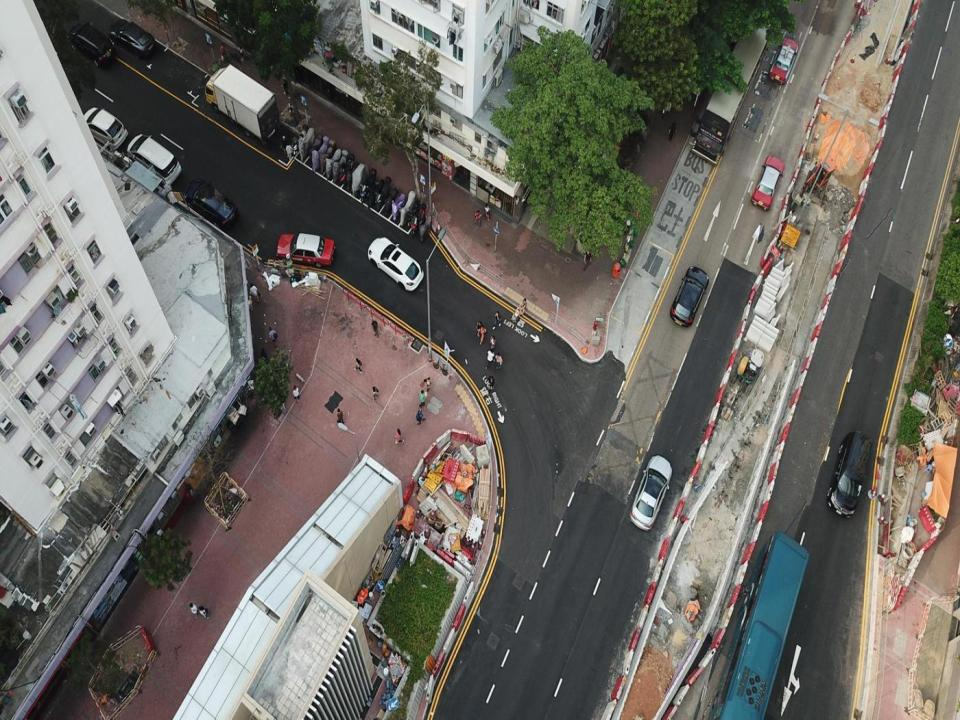bus: (710, 532, 810, 719)
car: (629, 454, 672, 530), (368, 235, 424, 290), (184, 178, 238, 229), (670, 266, 708, 326), (276, 232, 335, 267), (82, 107, 128, 149), (750, 155, 785, 210), (108, 18, 155, 57), (769, 38, 798, 83)
truck: (691, 13, 756, 169), (204, 63, 280, 144)
van: (826, 430, 872, 518), (127, 134, 181, 185), (67, 22, 115, 67)
